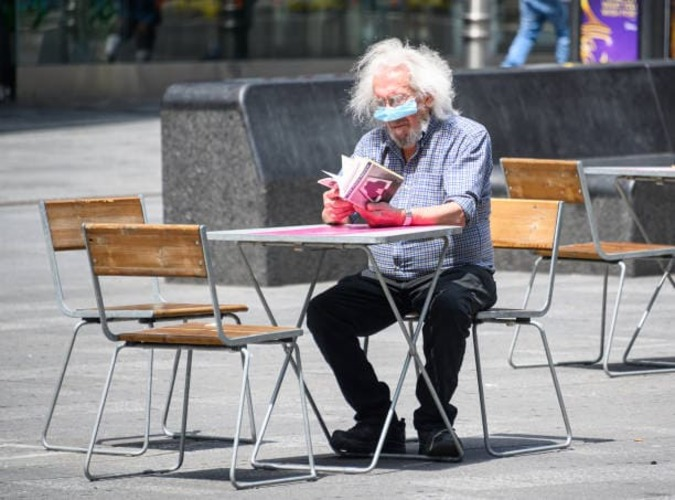with_incorrect_mask: (373, 75, 425, 148)
